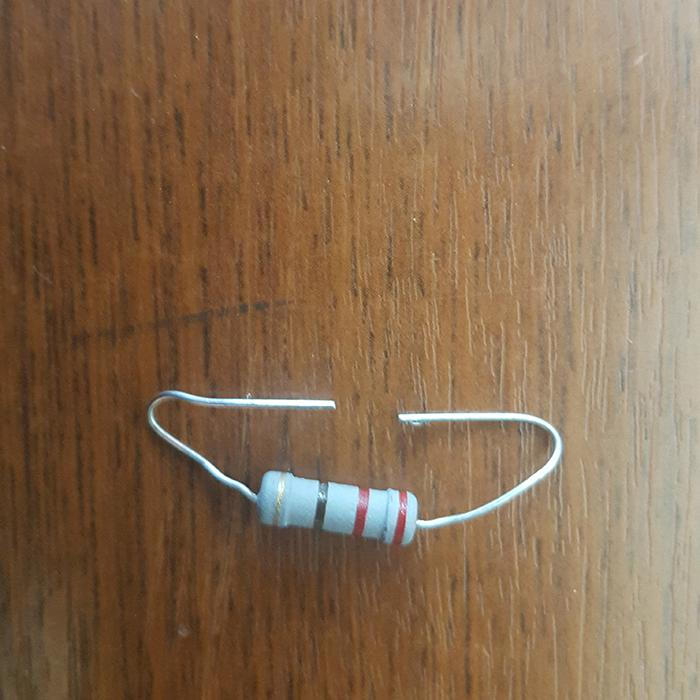resistor: (252, 469, 421, 547)
